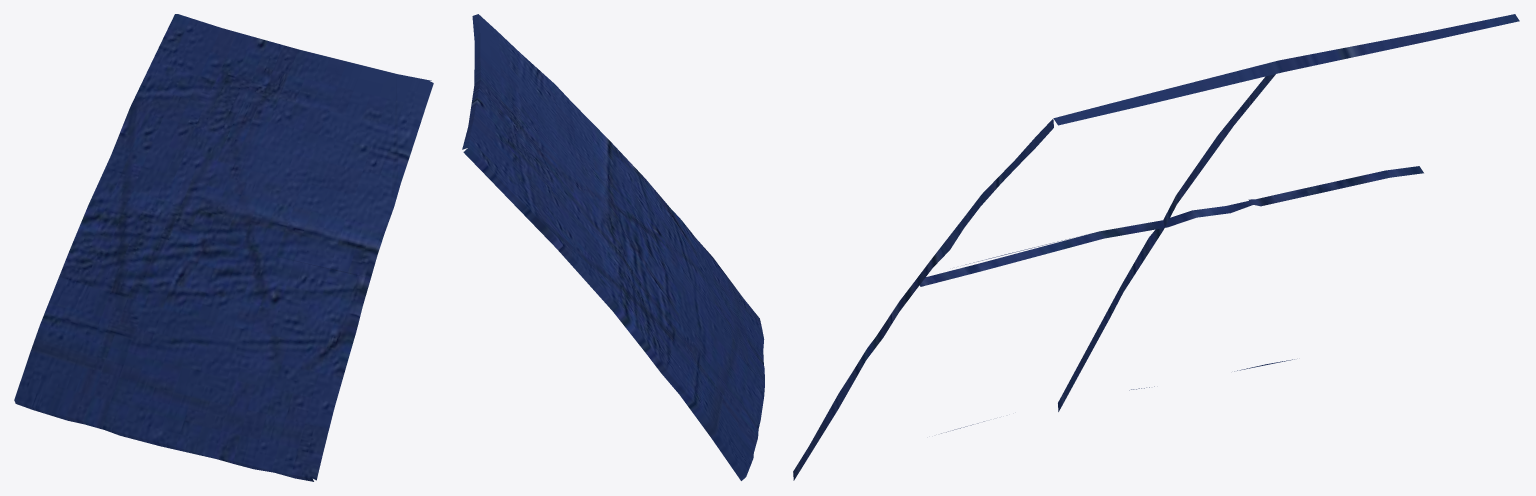
The picture shows the model from 3 angles, left to right: view 1: azimuth 30°, elevation 25°; view 2: azimuth 150°, elevation 25°; view 3: azimuth 270°, elevation 25°; orthographic projection. The views are drawn at different scales.
Size of the model in its own units: 1158169 by 989502 by 1236103.
1 material, 1 textured.
